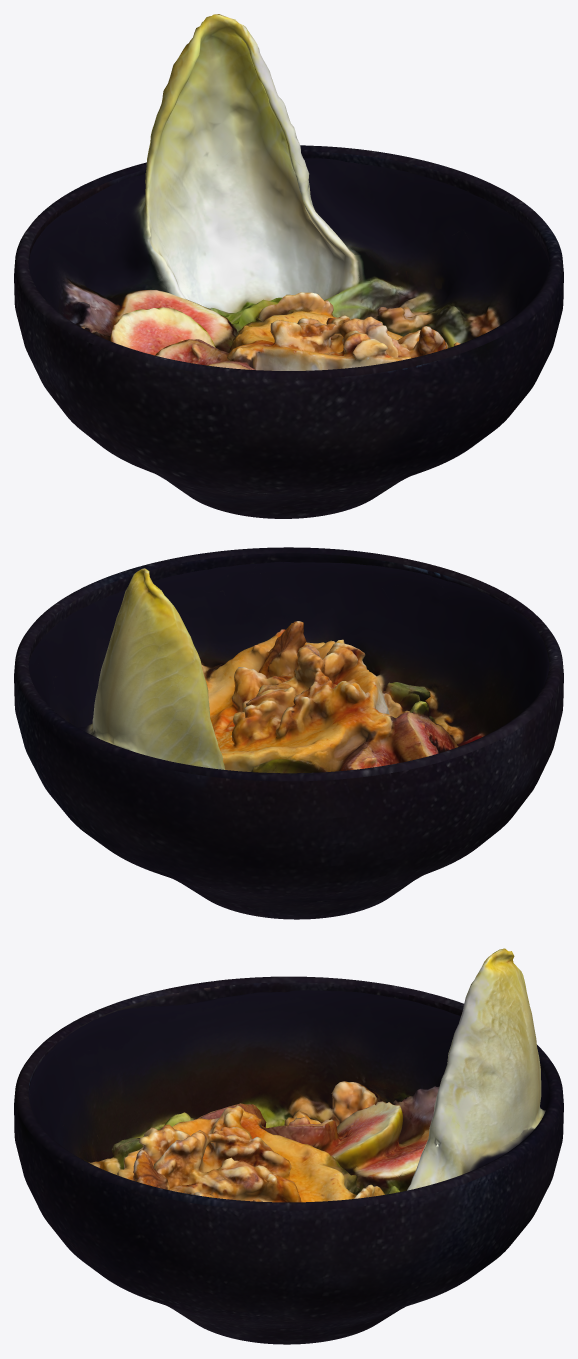
Rendered from modelado_test_A.glb.
The picture shows the model from 3 angles, top to bottom: view 1: azimuth 30°, elevation 25°; view 2: azimuth 150°, elevation 25°; view 3: azimuth 270°, elevation 25°; orthographic projection.
Visible parts, largest first — view 1: rheinwerft_011_ziegenkaese_bowl; view 2: rheinwerft_011_ziegenkaese_bowl; view 3: rheinwerft_011_ziegenkaese_bowl.
Boxes of the visible parts, x1,y1,x2,y2 form: rheinwerft_011_ziegenkaese_bowl: (14, 14, 563, 518); rheinwerft_011_ziegenkaese_bowl: (14, 547, 563, 919); rheinwerft_011_ziegenkaese_bowl: (14, 948, 563, 1344).
Bounding box in the file's own units: 0.194 × 0.1437 × 0.194.
2 materials, 2 textured.
